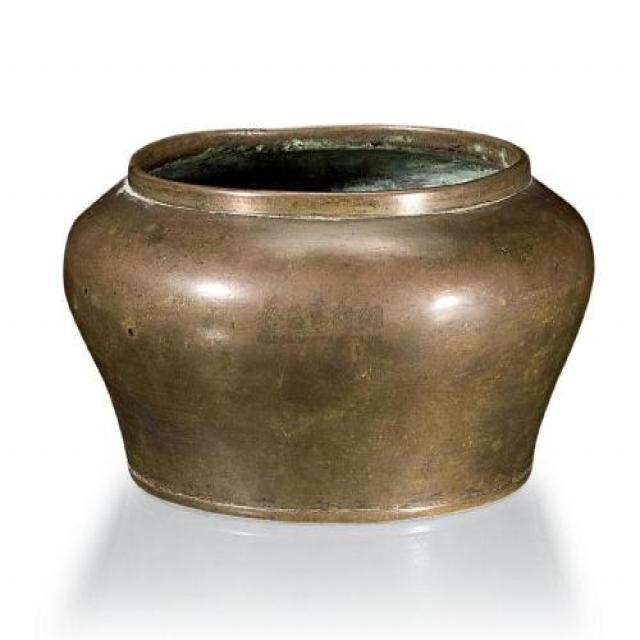recyclable: (61, 127, 592, 526)
